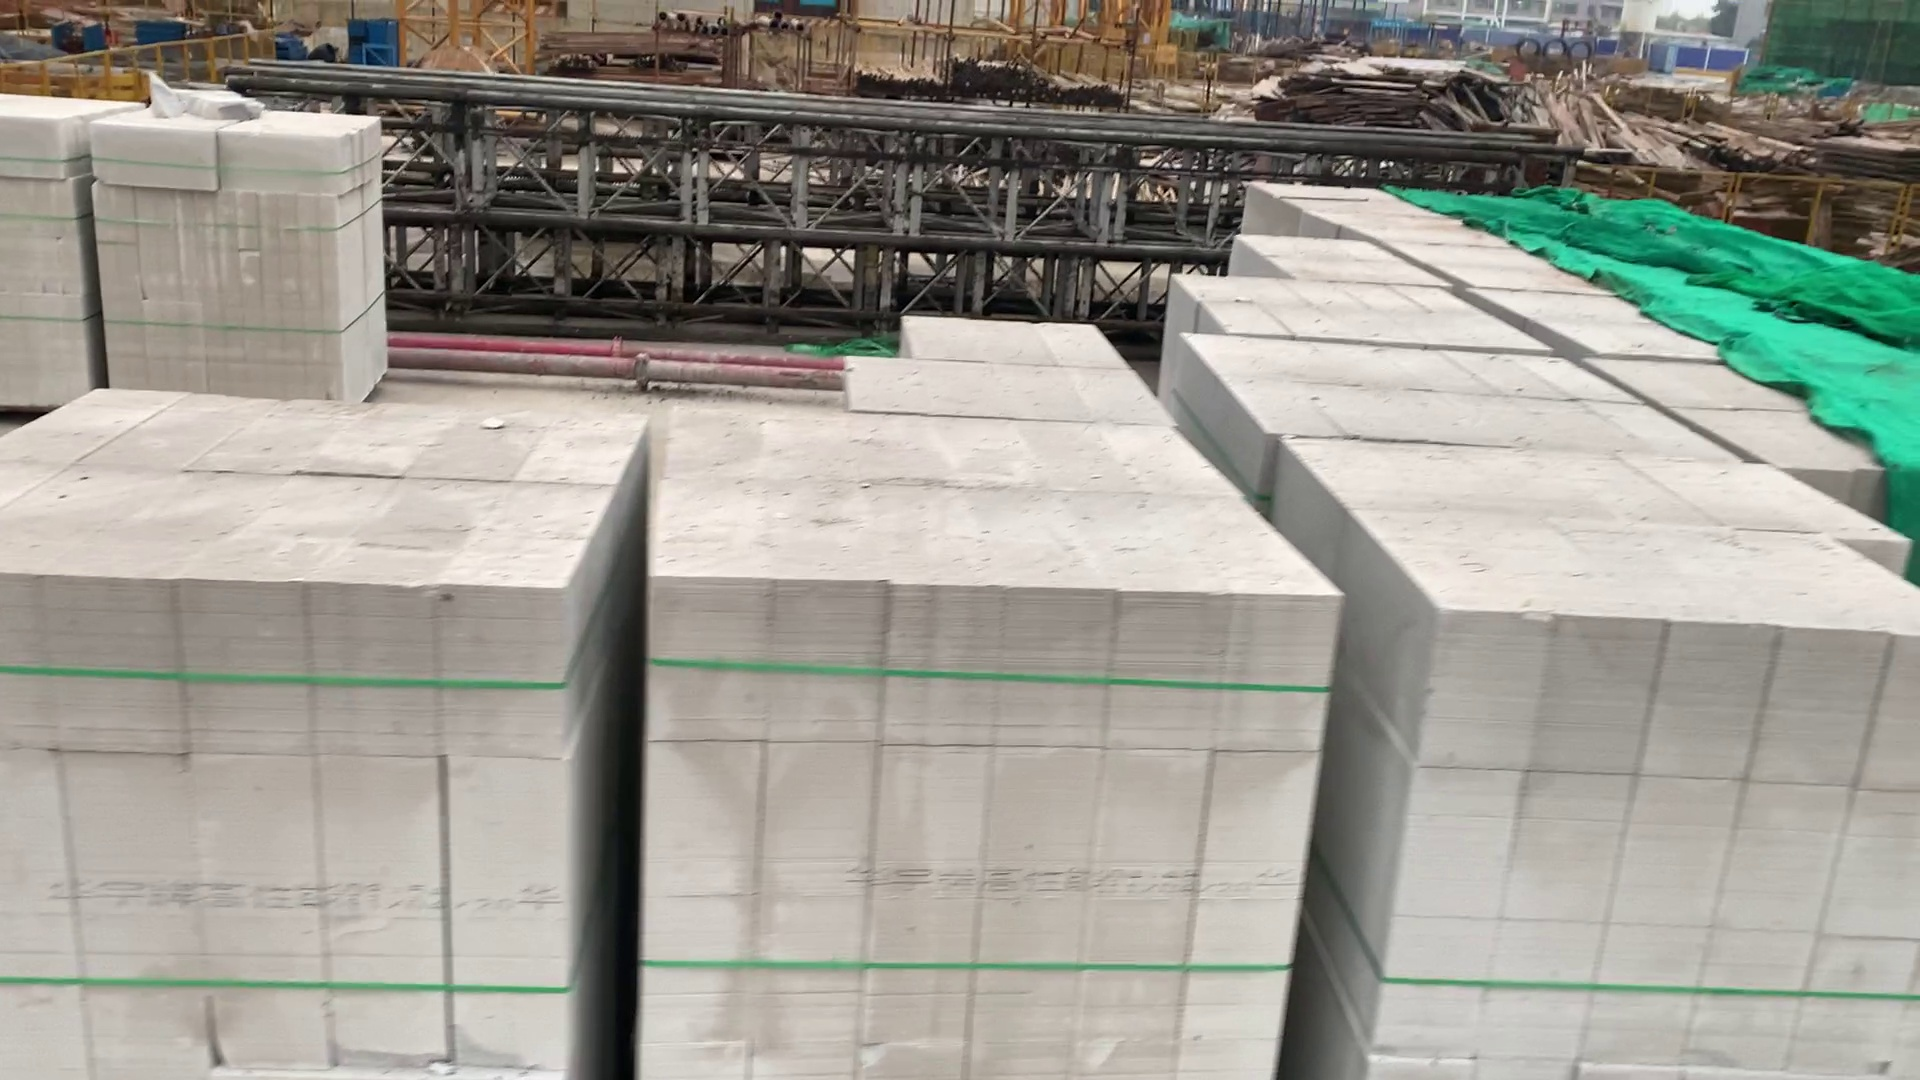brickwork: (647, 411, 1332, 1080), (8, 382, 616, 1080), (1284, 439, 1920, 1077), (95, 112, 392, 410), (1183, 335, 1749, 454), (843, 314, 1174, 427), (1584, 353, 1891, 469), (3, 98, 108, 414), (1168, 277, 1549, 345), (1481, 291, 1720, 356), (1265, 179, 1489, 233), (1396, 233, 1604, 285), (1236, 233, 1443, 284)
